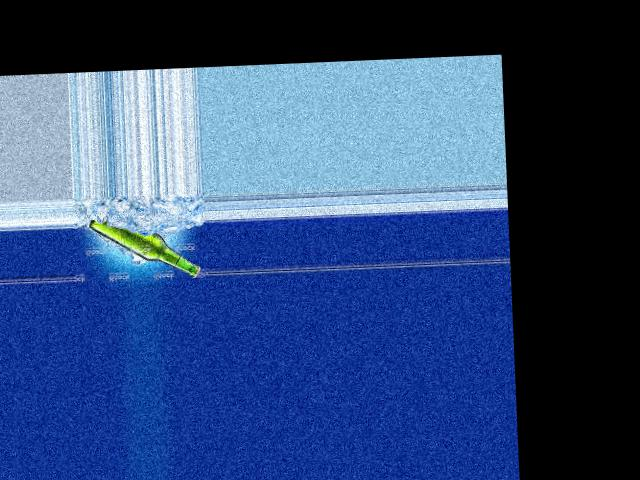beer: (89, 215, 202, 282)
